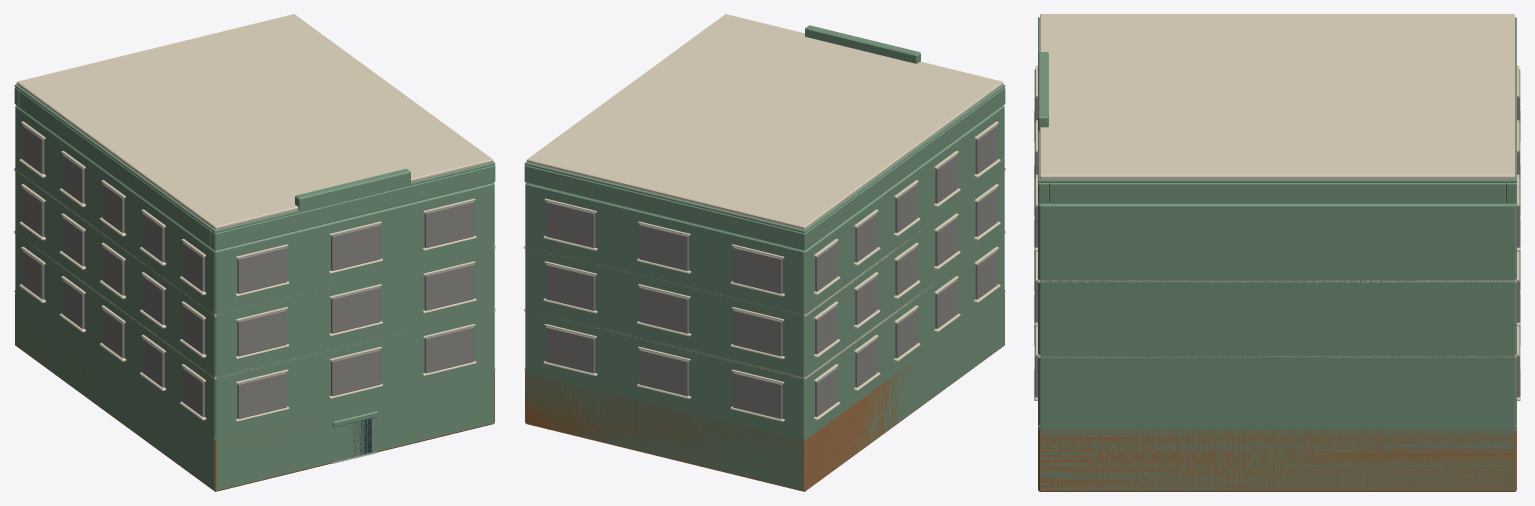
File: VG_Bld_Residential_25.fbx
3 views of the same model, side by side, from view 1: azimuth 30°, elevation 25°; view 2: azimuth 150°, elevation 25°; view 3: azimuth 270°, elevation 25° (orthographic). The views are drawn at different scales.
Parts seen in each view (by area): view 1: VG_Bld_Residential_25_Body; view 2: VG_Bld_Residential_25_Body; view 3: VG_Bld_Residential_25_Body.
Boxes of the visible parts, <box> form: VG_Bld_Residential_25_Body: <box>14,14,495,491</box>; VG_Bld_Residential_25_Body: <box>524,14,1005,491</box>; VG_Bld_Residential_25_Body: <box>1034,14,1520,491</box>.
Size of the model in its own units: 17.76 by 16.31 by 22.
